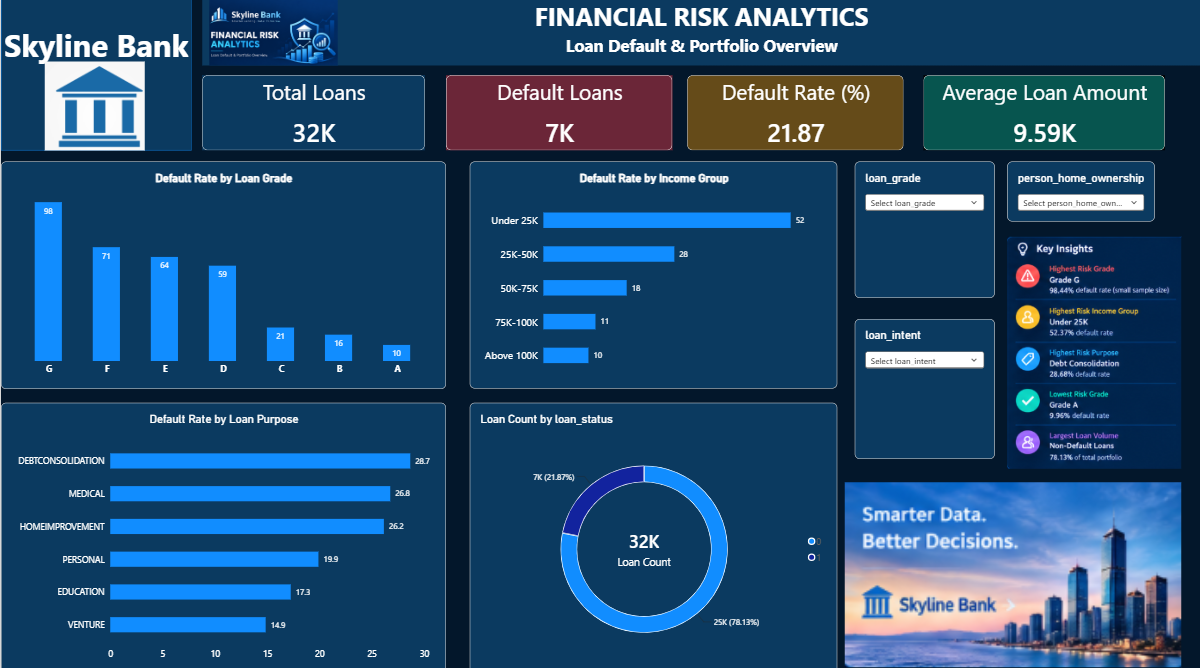

This screenshot's page, from the dashboard's own definition file:
{"tool":"powerbi","page":{"name":"Page 1","canvas":[1920,1080],"ordinal":0},"visuals":[{"type":"cardVisual","fields":{"Data":["credit_risk_cleaned.Total Loans"]},"box":[322,122,356,120],"z":0},{"type":"cardVisual","fields":{"Data":["credit_risk_cleaned.Default Loans"]},"box":[712,122,362,120],"z":1},{"type":"cardVisual","fields":{"Data":["credit_risk_cleaned.Average Loan Amount"]},"box":[1476,122,386,120],"z":3},{"type":"clusteredColumnChart","title":"Default Rate by Loan Grade","fields":{"Category":["credit_risk_cleaned.loan_grade"],"Y":["credit_risk_cleaned.Default Rate (%)"]},"box":[0,260,712,364],"z":4},{"type":"clusteredBarChart","title":"Default Rate by Income Group","fields":{"Category":["credit_risk_cleaned.income_group"],"Y":["credit_risk_cleaned.Default Rate (%)"]},"box":[750,260,588.3,363.3],"z":5},{"type":"clusteredBarChart","title":"Default Rate by Loan Purpose","fields":{"Category":["credit_risk_cleaned.loan_intent"],"Y":["credit_risk_cleaned.Default Rate (%)"]},"box":[0,646,712,434],"z":6},{"type":"donutChart","fields":{"Category":["credit_risk_cleaned.loan_status"],"Y":["credit_risk_cleaned.Loan Count"]},"box":[750,646,588.3,433.3],"z":7},{"type":"listSlicer","fields":{"Values":["credit_risk_cleaned.loan_grade"]},"box":[1366,260,224,218],"z":8},{"type":"listSlicer","fields":{"Values":["credit_risk_cleaned.loan_intent"]},"box":[1366,512,224,224],"z":9},{"type":"listSlicer","fields":{"Values":["credit_risk_cleaned.person_home_ownership"]},"box":[1610,260,236,96],"z":10},{"type":"cardVisual","fields":{"Data":["credit_risk_cleaned.Default Rate (%)"]},"box":[1098,122,346,120],"z":13},{"type":"shape","title":"FINANCIAL RISK ANALYTICS","box":[322,0,1598,106],"z":15},{"type":"textbox","box":[322,242,150,838],"z":16},{"type":"textbox","box":[472,886,224,194],"z":19},{"type":"textbox","box":[1770,300,150,280],"z":21},{"type":"textbox","box":[1770,300,150,280],"z":22},{"type":"textbox","box":[1770,300,150,280],"z":23},{"type":"textbox","box":[1770,300,150,280],"z":24},{"type":"textbox","box":[1770,300,150,280],"z":25},{"type":"textbox","box":[100,100,300,300],"z":28},{"type":"textbox","box":[100,100,300,300],"z":29},{"type":"shape","box":[0,0,305,242.5],"z":30},{"type":"image","box":[50,100,200,142.5],"z":31},{"type":"image","box":[1610,370,278,392],"z":32},{"type":"image","box":[1350,762,538,318],"z":33},{"type":"image","box":[322,0,228,106],"z":34}]}

Visuals, with their boxes in screenshot pixels (x1, y1, x2, y2), scaled from the page's 1920x1080 canvas onto the 1200x668 screenshot:
cardVisual - credit_risk_cleaned.Total Loans: (201, 75, 424, 150)
cardVisual - credit_risk_cleaned.Default Loans: (445, 75, 671, 150)
cardVisual - credit_risk_cleaned.Average Loan Amount: (922, 75, 1164, 150)
"Default Rate by Loan Grade" clusteredColumnChart: (0, 161, 445, 386)
"Default Rate by Income Group" clusteredBarChart: (469, 161, 836, 386)
"Default Rate by Loan Purpose" clusteredBarChart: (0, 400, 445, 667)
donutChart - credit_risk_cleaned.loan_status x credit_risk_cleaned.Loan Count: (469, 400, 836, 667)
listSlicer - credit_risk_cleaned.loan_grade: (854, 161, 994, 296)
listSlicer - credit_risk_cleaned.loan_intent: (854, 317, 994, 455)
listSlicer - credit_risk_cleaned.person_home_ownership: (1006, 161, 1154, 220)
cardVisual - credit_risk_cleaned.Default Rate (%): (686, 75, 902, 150)
"FINANCIAL RISK ANALYTICS" shape: (201, 0, 1199, 66)
textbox: (201, 150, 295, 667)
textbox: (295, 548, 435, 667)
textbox: (1106, 186, 1199, 359)
textbox: (1106, 186, 1199, 359)
textbox: (1106, 186, 1199, 359)
textbox: (1106, 186, 1199, 359)
textbox: (1106, 186, 1199, 359)
textbox: (62, 62, 250, 247)
textbox: (62, 62, 250, 247)
shape: (0, 0, 191, 150)
image: (31, 62, 156, 150)
image: (1006, 229, 1180, 471)
image: (844, 471, 1180, 667)
image: (201, 0, 344, 66)
